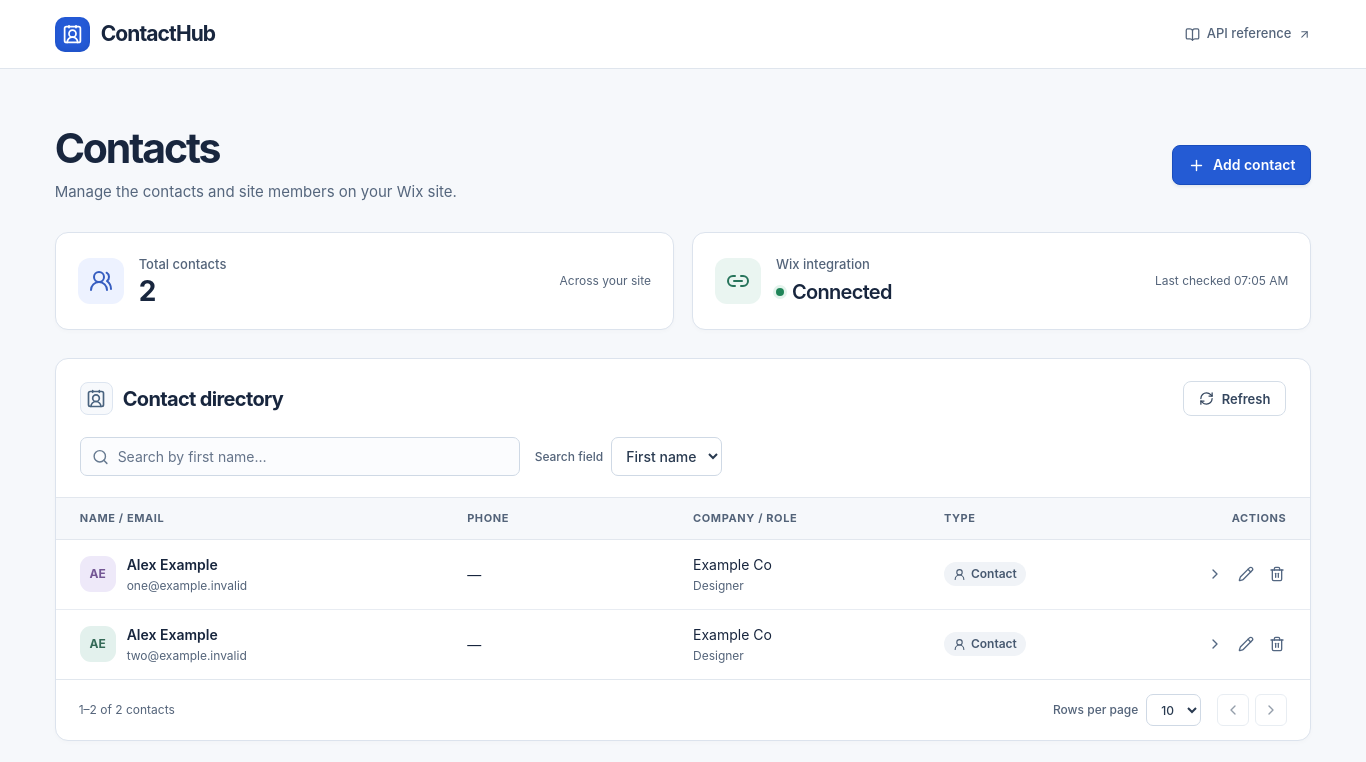
Test: identifies the selected contact in delete controls and confirmation: same name, different emails
Expected: the text "Connected" is shown, [776,277,892,307]
Click the button named "Delete Alex Example · two@example.invalid". click: (1277, 644)
box: [1261,628,1292,660]
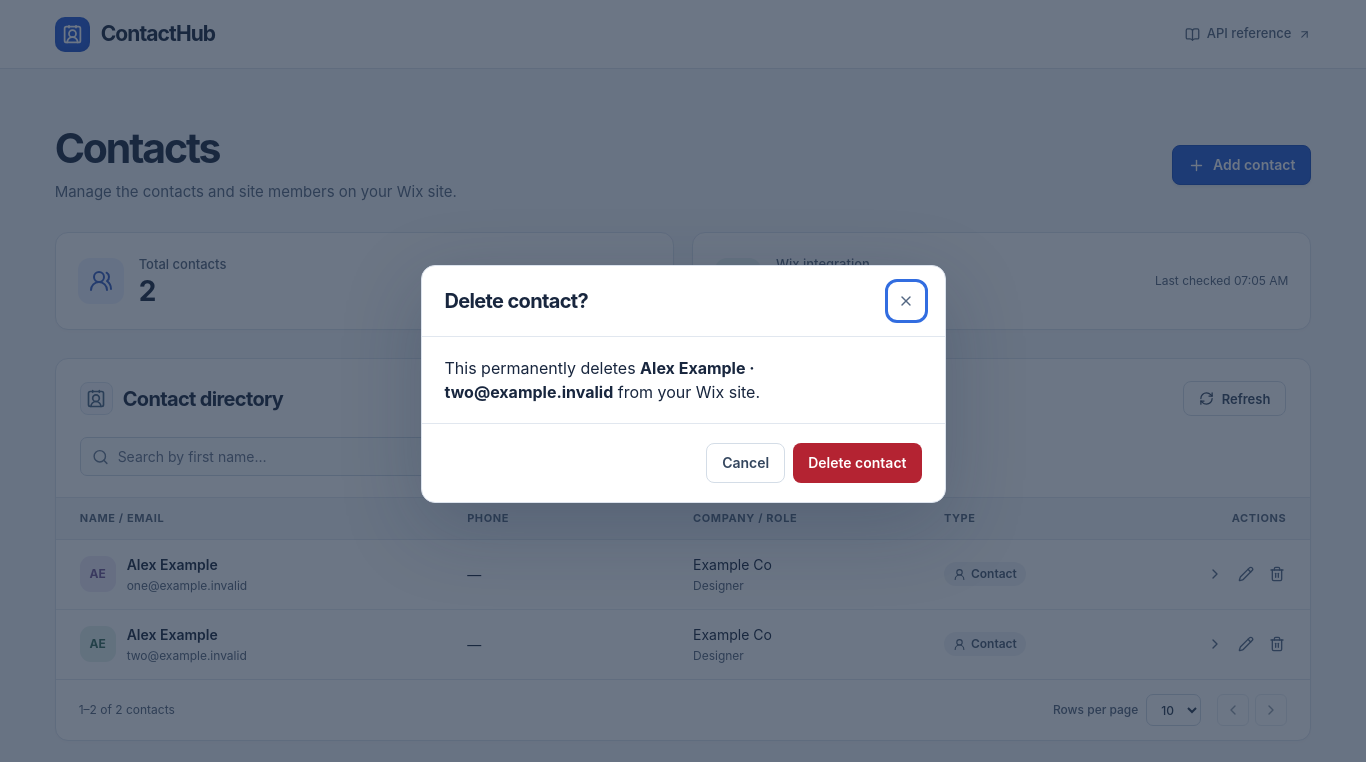
Click the button "Delete contact". click: (857, 463)
box: [793,443,922,483]
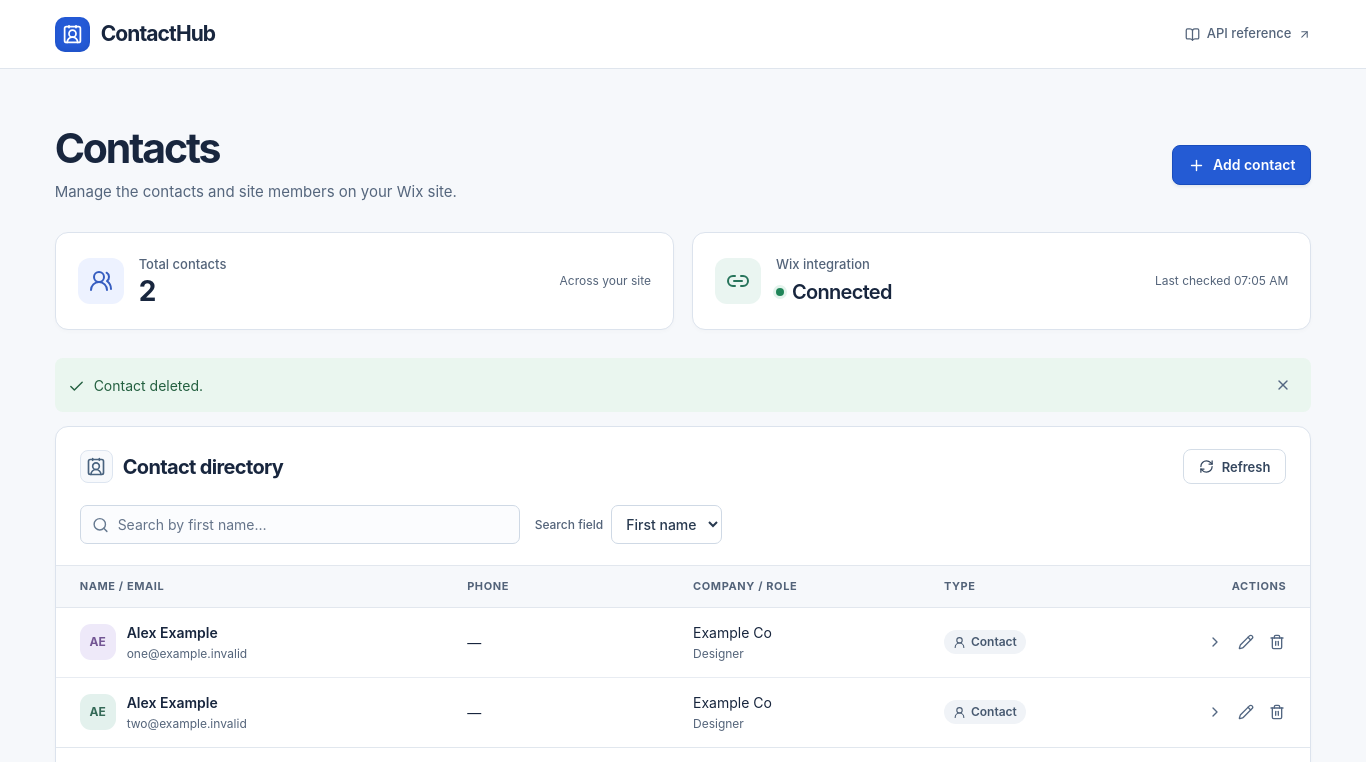
Expected: the text "Contact deleted." is shown, [55,358,1311,412]
